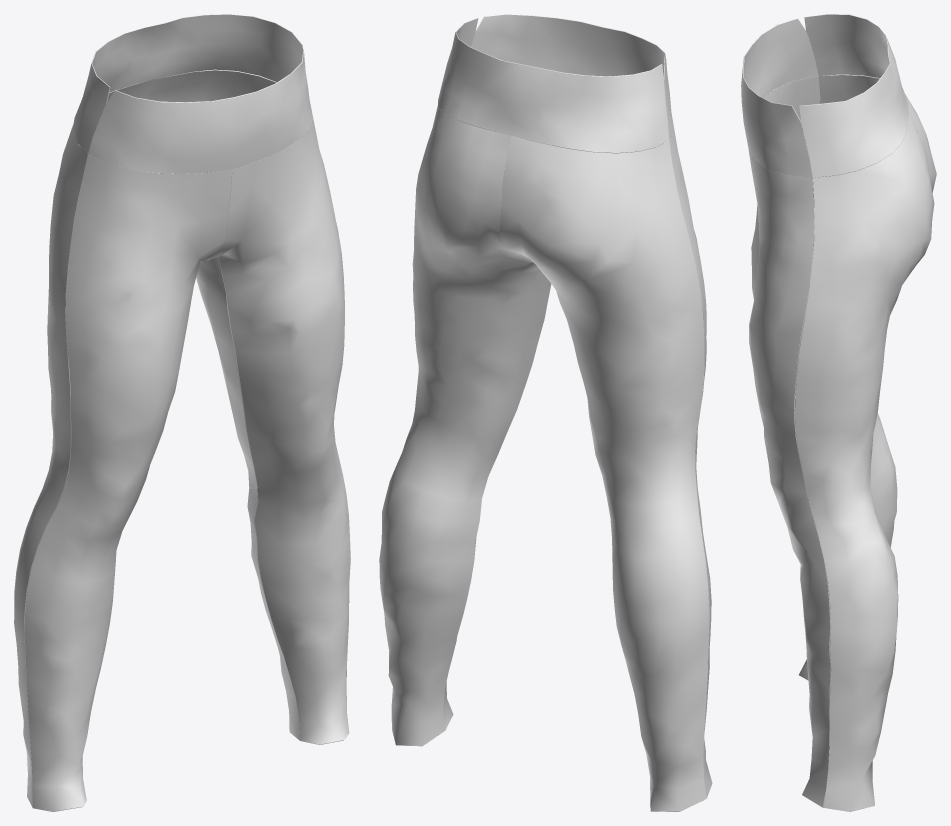
The model's file is whitelegginglowpoly.fbx.
3 renders of one model, left to right at view 1: azimuth 30°, elevation 25°; view 2: azimuth 150°, elevation 25°; view 3: azimuth 270°, elevation 25°, orthographic. The views are drawn at different scales.
Parts seen in each view (by area): view 1: 后片_1; view 2: 后片_1; view 3: 后片_1.
Part boxes in pixels (x1,y1,x2,y2): 后片_1: (14,14,350,811); 后片_1: (379,14,712,811); 后片_1: (741,14,936,811).
Size of the model in its own units: 51.97 by 112 by 28.8.
